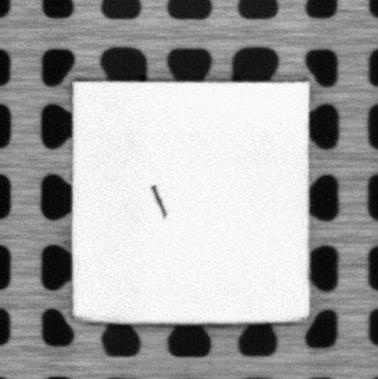DIE_INK: (151, 184, 167, 218)
